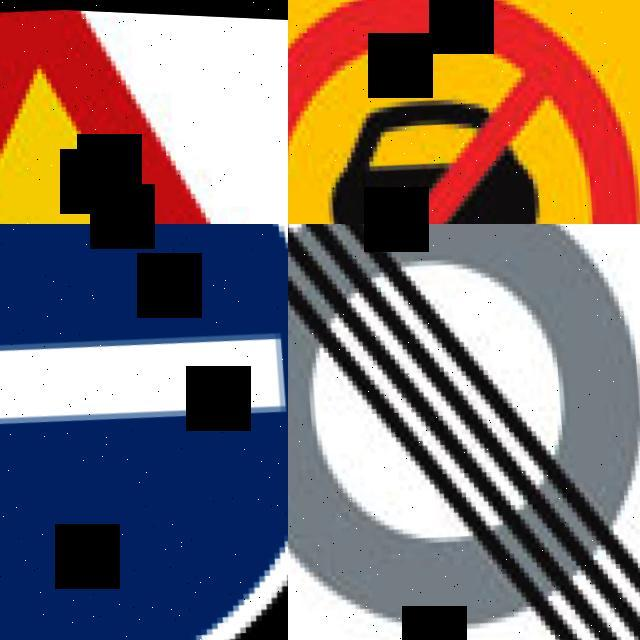111: (288, 224, 640, 640)
No entry for motor vehicles: (288, 0, 640, 224)
Steep uphill: (0, 0, 288, 224)
Turn Right: (0, 224, 288, 640)
